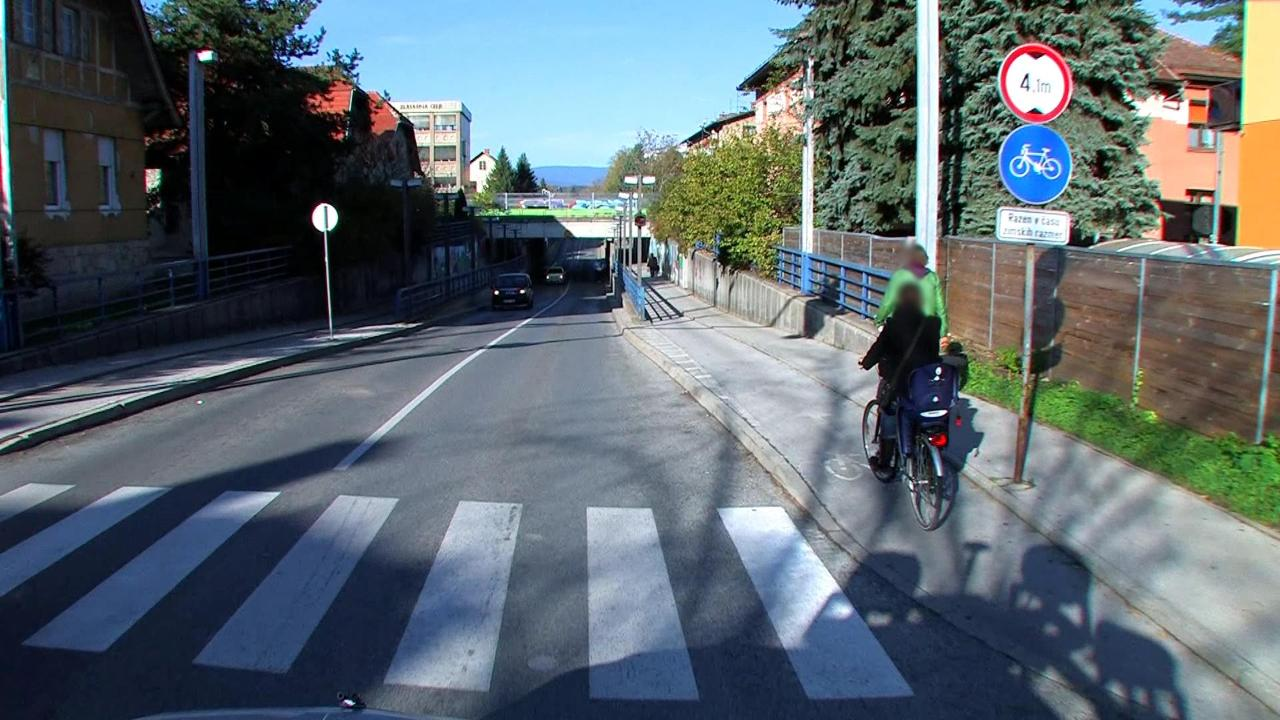Rectangle: (996, 206, 1072, 248)
Round: (998, 124, 1074, 206), (999, 43, 1073, 124)
